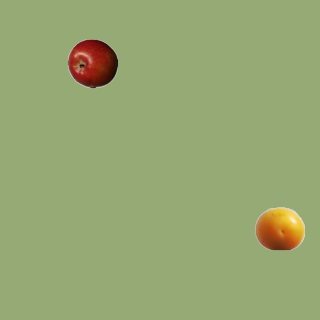Apple Braeburn: (67, 38, 117, 88)
Cherry Wax Yellow: (254, 203, 304, 253)
